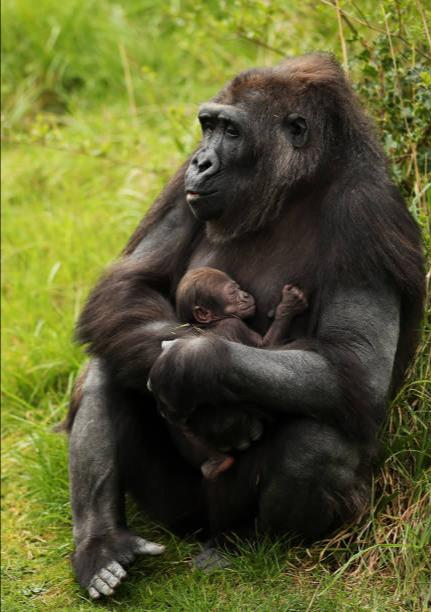gorille_Autres: (8, 33, 424, 580)
